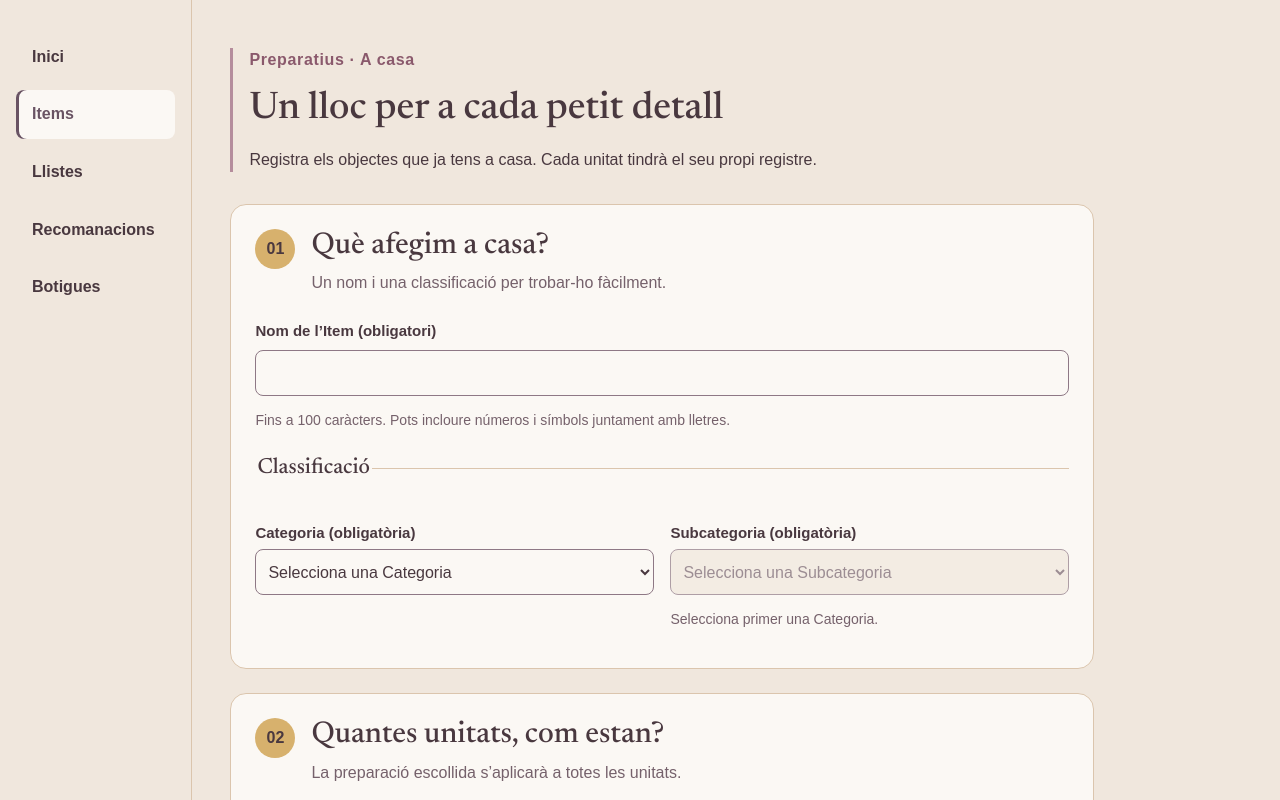
Test: nom invàlid en blur
Expected: the dropdown labelled "Categoria (obligatòria)" is shown, [255, 549, 654, 595]
Type "123!" into the field labelled "Nom de l’Item (obligatori)" at [662, 373], box [255, 350, 1069, 396]
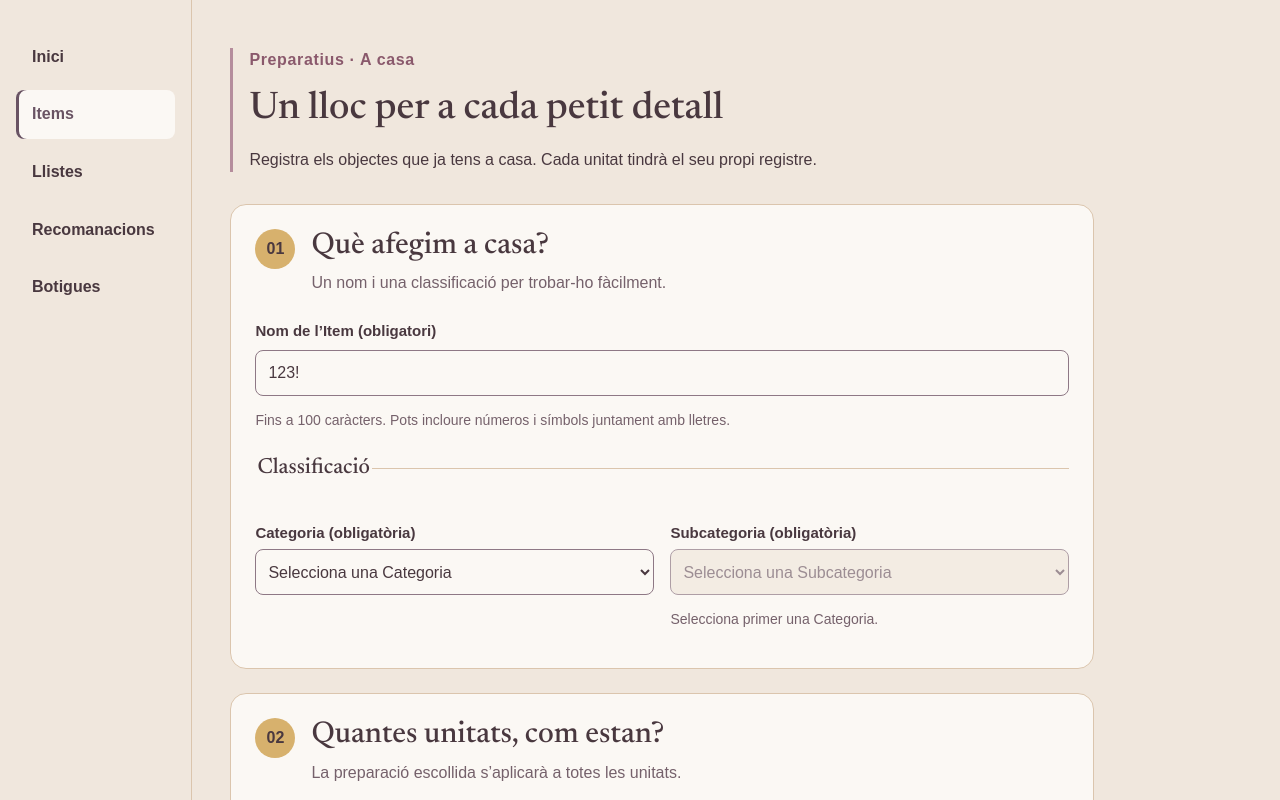
Press Tab
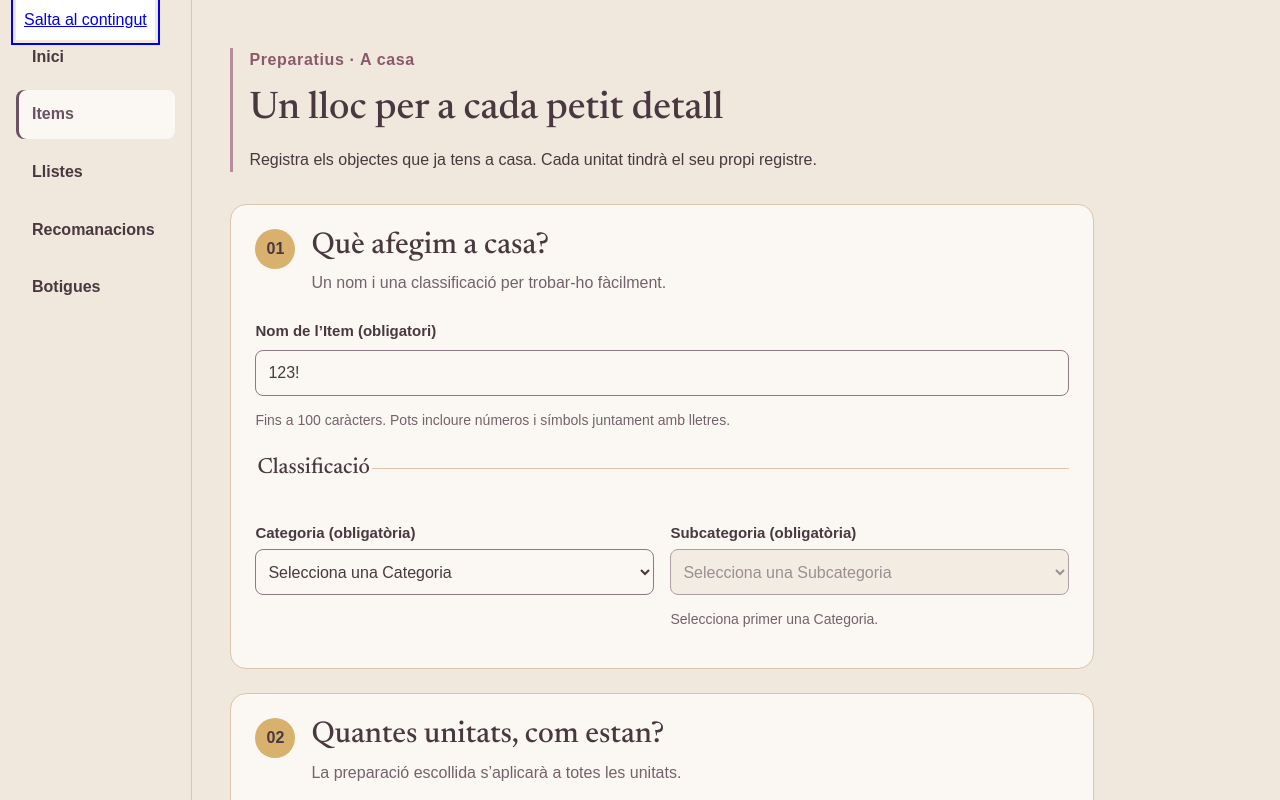
Leave the field labelled "Nom de l’Item (obligatori)", box [255, 350, 1069, 396]
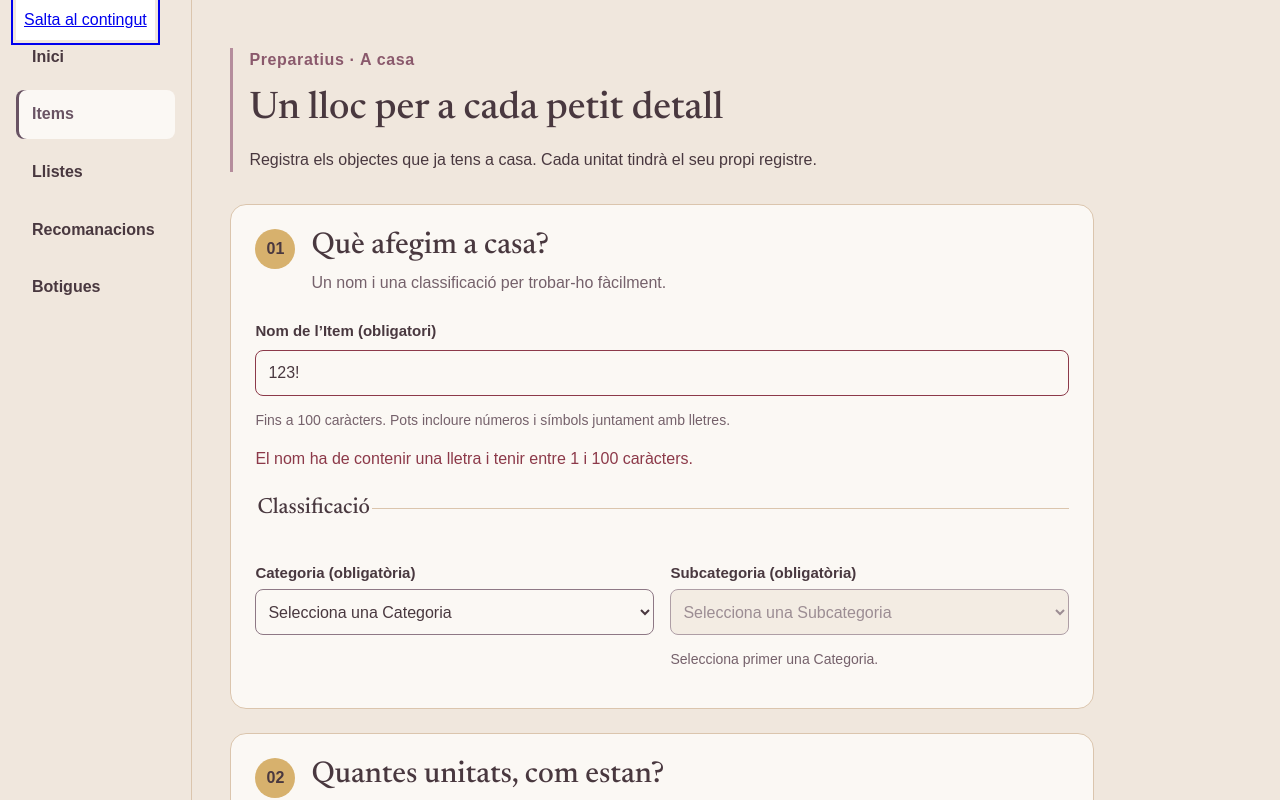
Expected: the text "El nom ha de contenir una lletra i tenir entre 1 i 100 caràcters." is shown, [255, 450, 693, 467]
